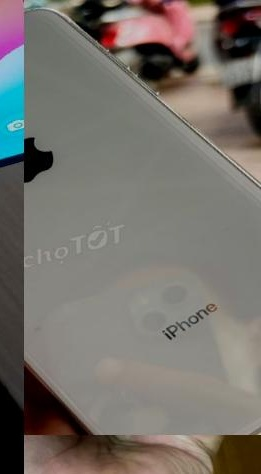scratch: (24, 38, 37, 62)
